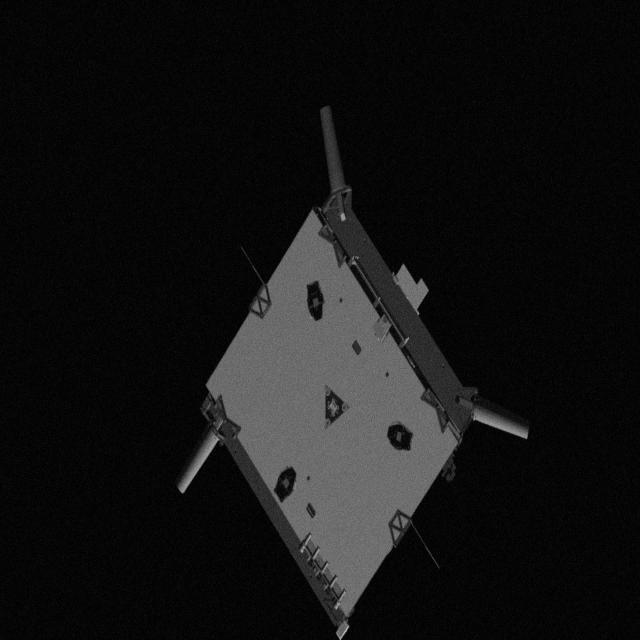medium_debris: (156, 116, 544, 630)
